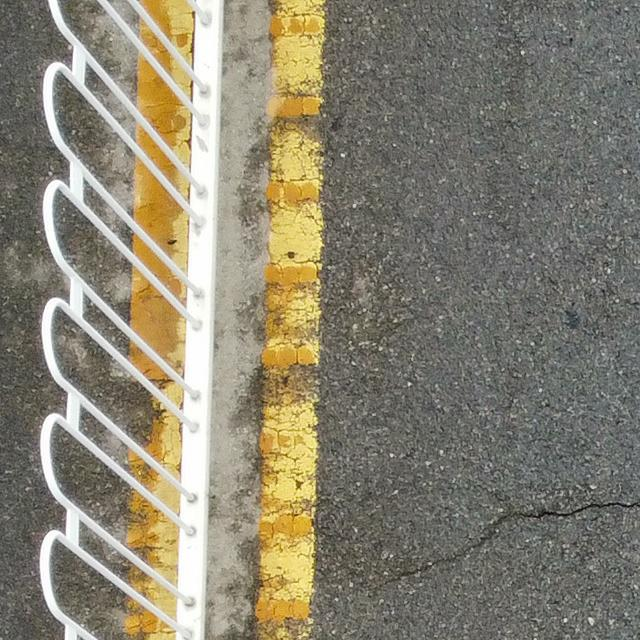TransverseCrack: (376, 502, 640, 587)
